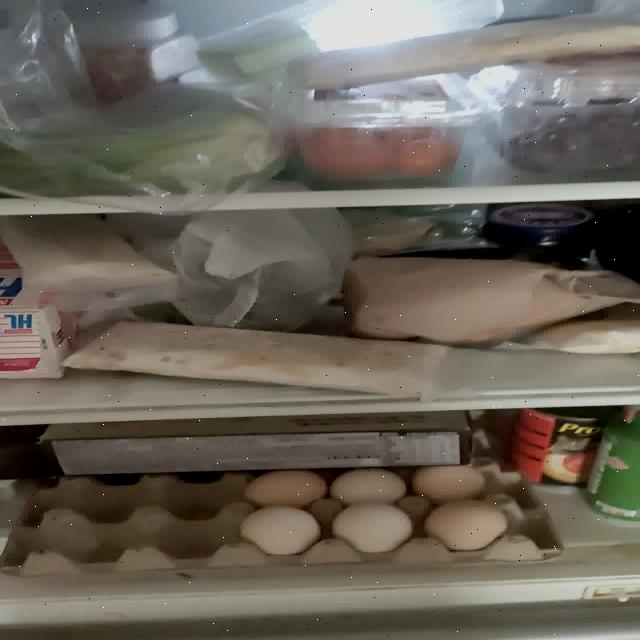egg: (1, 464, 561, 578)
leafy_greens: (0, 109, 276, 195)
tempeh: (61, 320, 449, 397), (0, 217, 179, 291)
